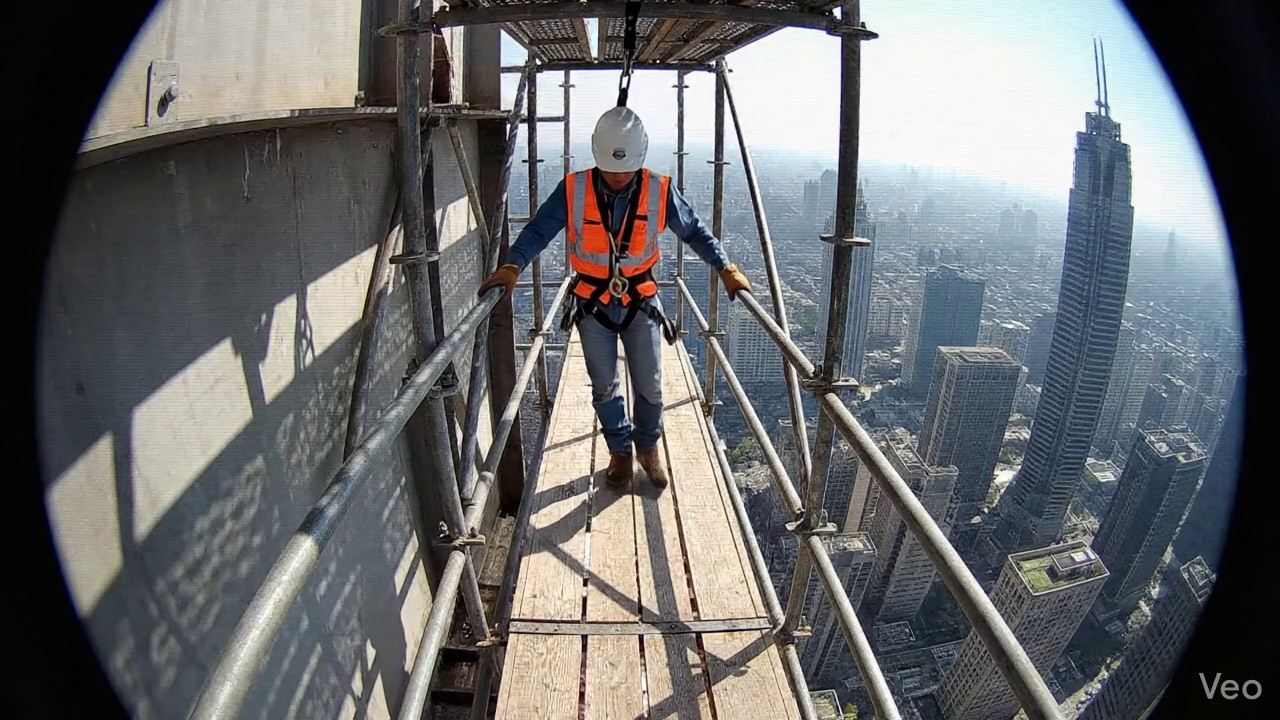person: (481, 103, 748, 487), (620, 90, 625, 101)
